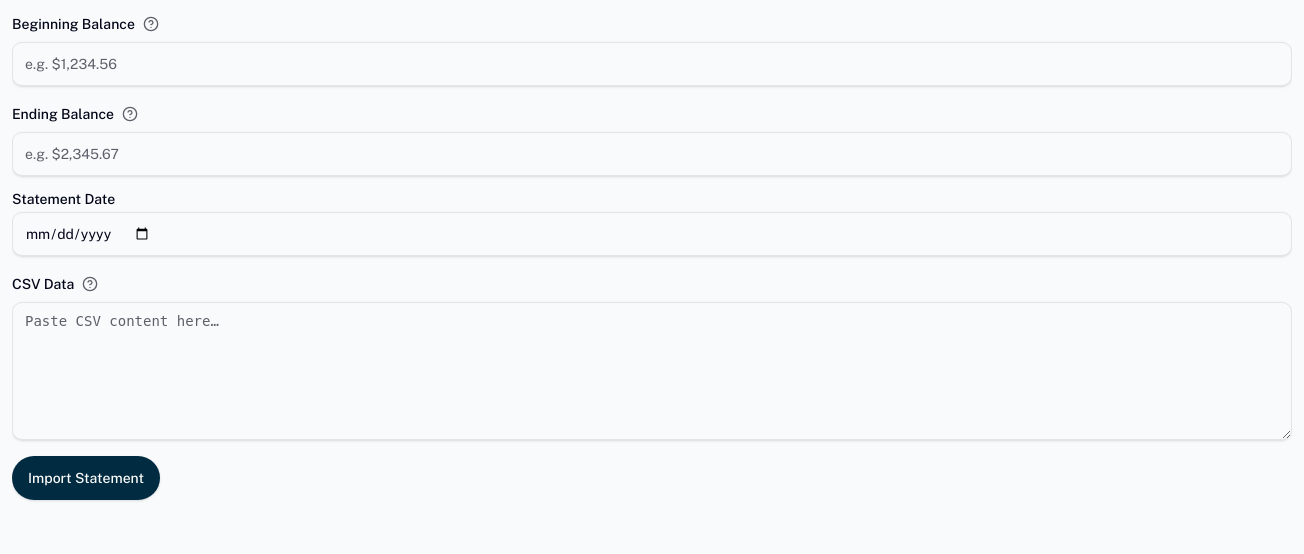
Test: StatementUpload › blocks submit until CSV data is provided
Type "100.00" into the field labelled "Beginning Balance" at (652, 64), box [12,42,1292,86]
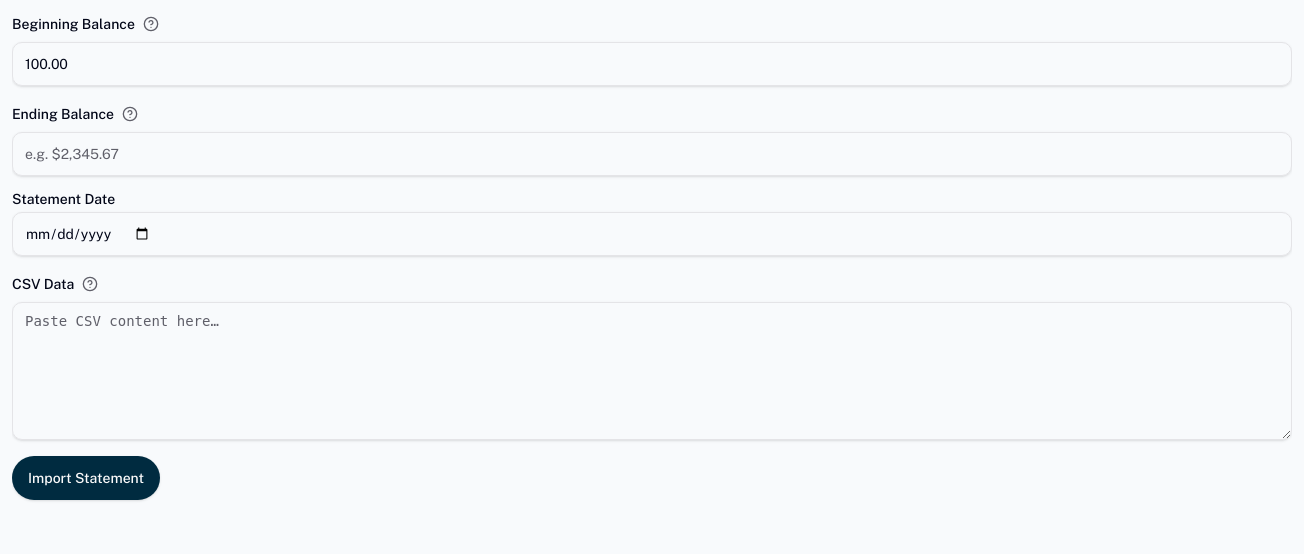
Type "200.00" into the field labelled "Ending Balance" at (652, 154), box [12,132,1292,176]
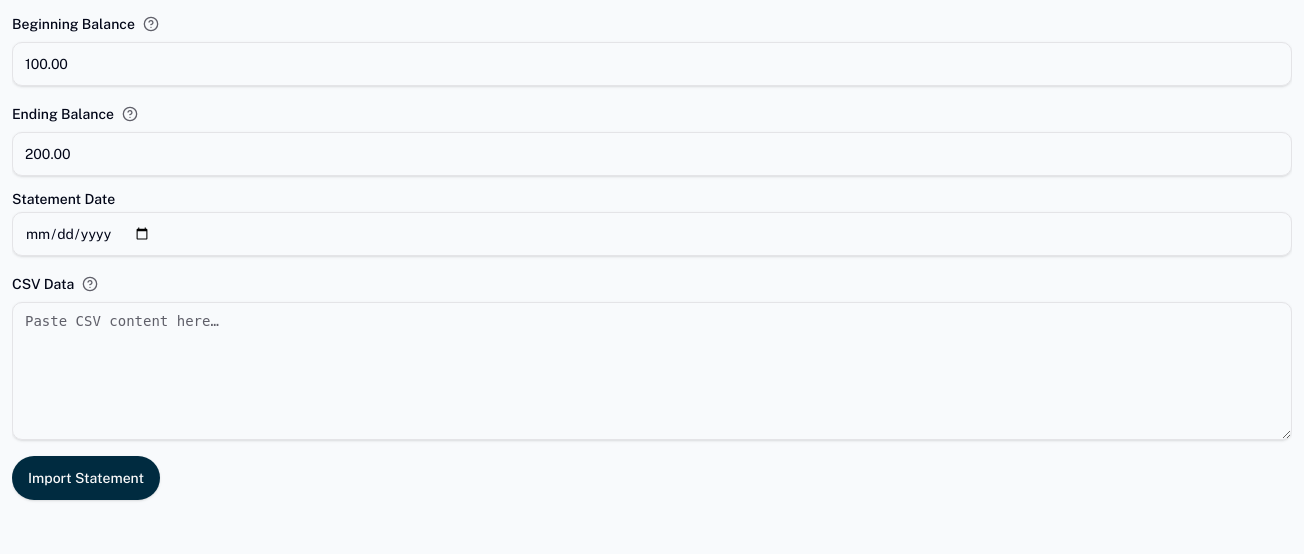
Type "2026-01-31" into the date field labelled "Statement Date" at (652, 234), box [12,212,1292,256]
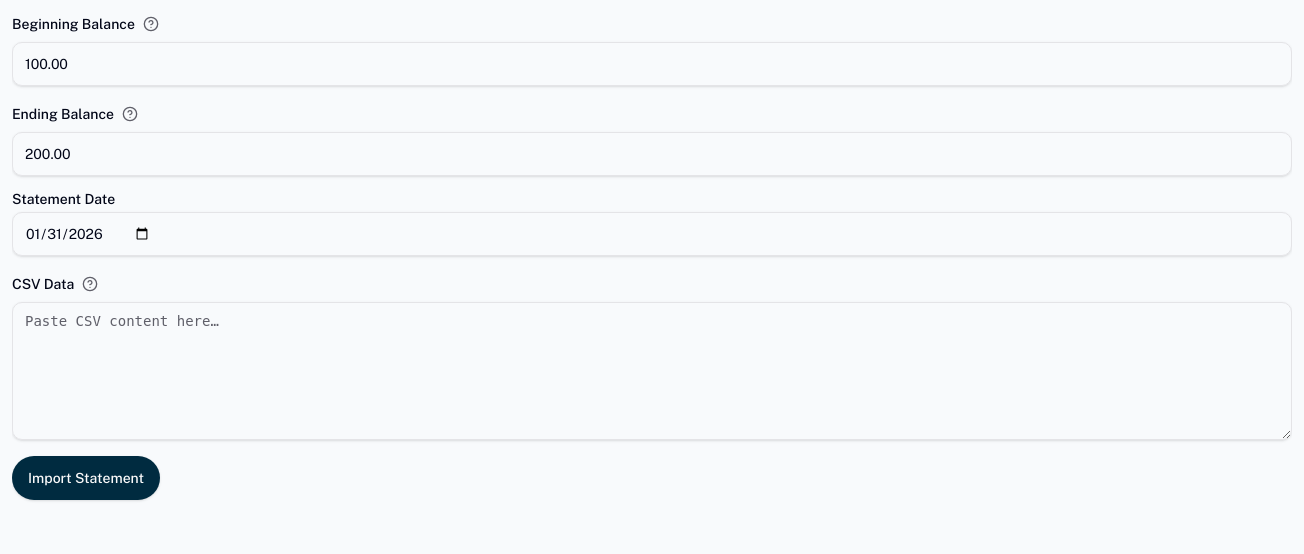
Submit the text "Import Statement"
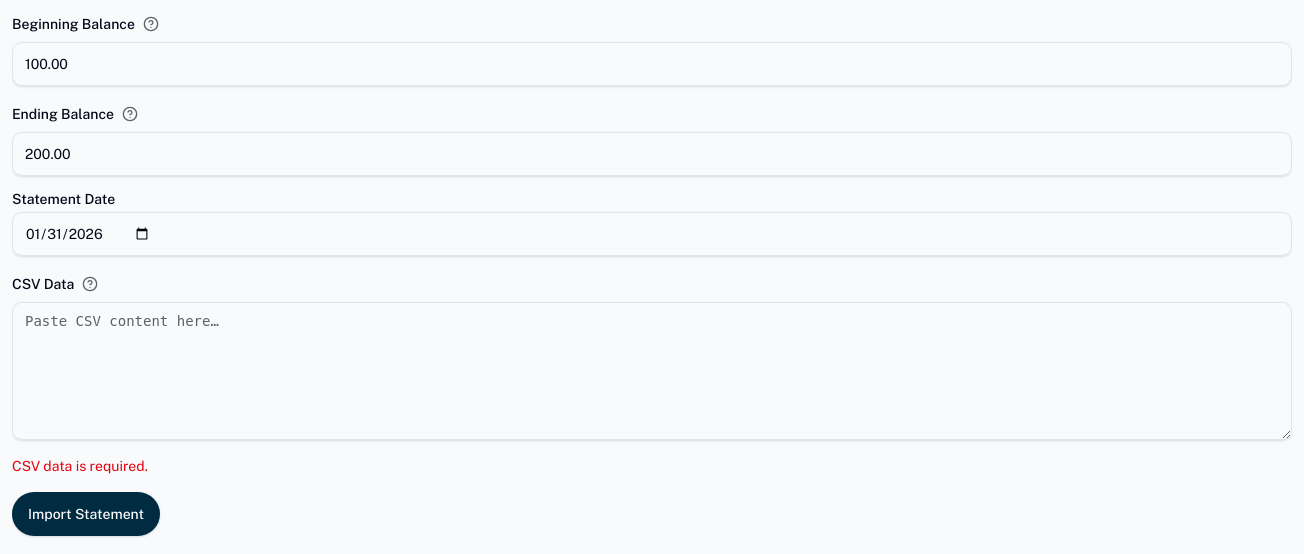
Check: the message reads "CSV data is required.", box [12,458,148,474]
